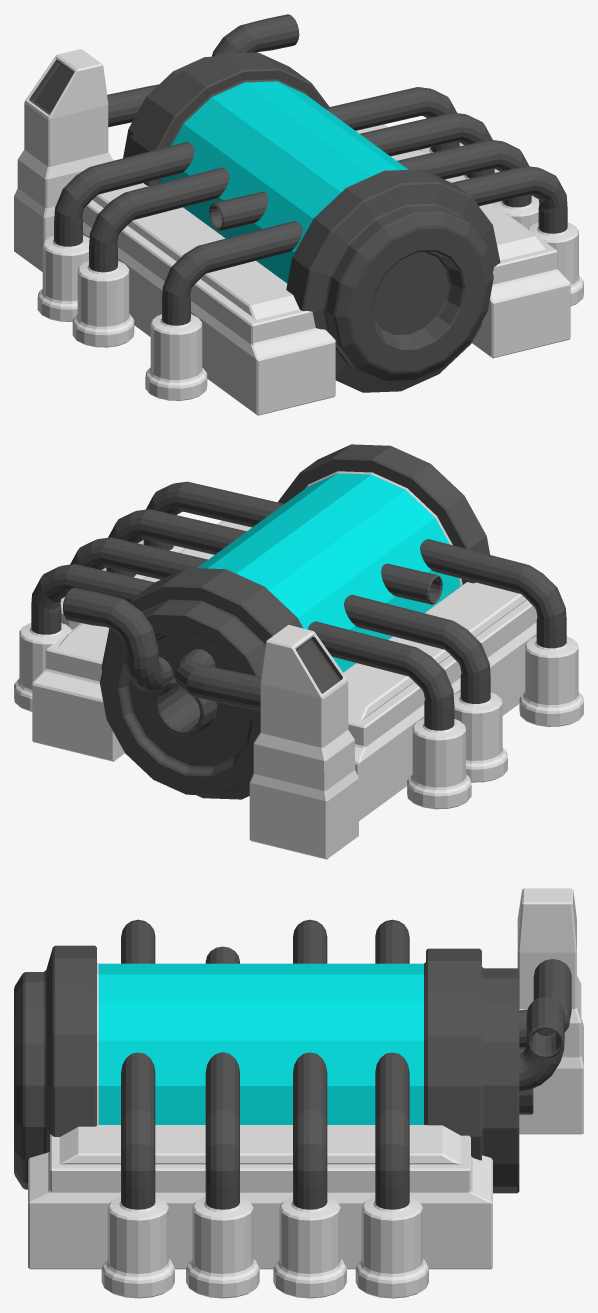
File: generator.fbx
3 renders of one model, top to bottom at view 1: azimuth 30°, elevation 25°; view 2: azimuth 150°, elevation 25°; view 3: azimuth 270°, elevation 25°, orthographic. The views are drawn at different scales.
Visible parts, largest first — view 1: Generator; view 2: Generator; view 3: Generator.
Part boxes in pixels (box(x1,y1,x2,y2)): Generator: box(14, 14, 583, 415); Generator: box(14, 444, 583, 859); Generator: box(14, 888, 583, 1298).
Bounding box in the file's own units: 1595 × 737 × 1551.
